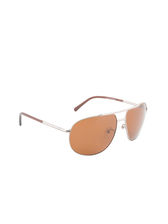glasses: (17, 91, 150, 157)
